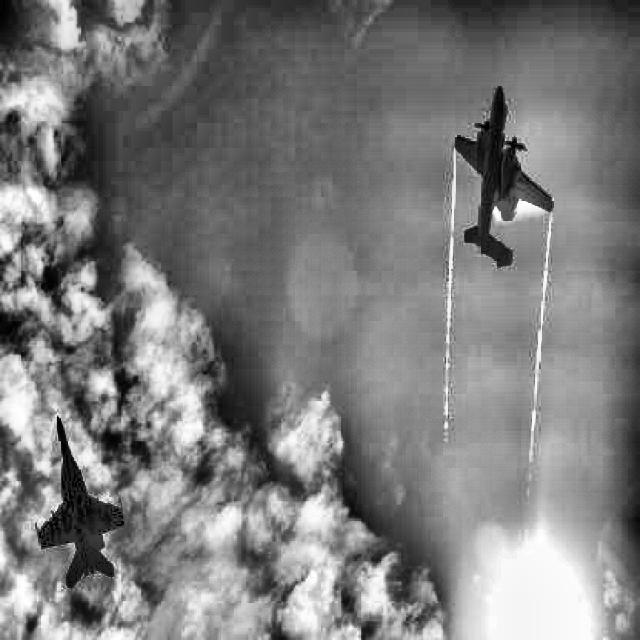E2: (454, 85, 554, 267)
F18: (34, 416, 126, 590)
